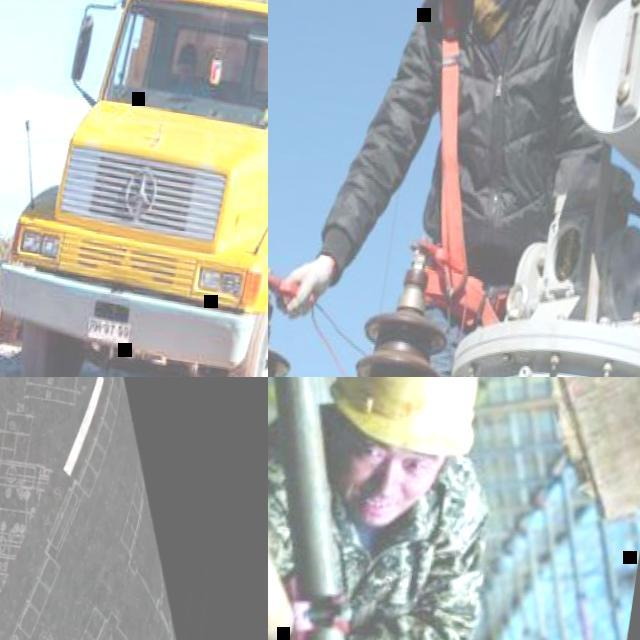Helmet: (326, 375, 478, 474)
Robbery: (274, 0, 640, 346), (275, 377, 490, 640)
